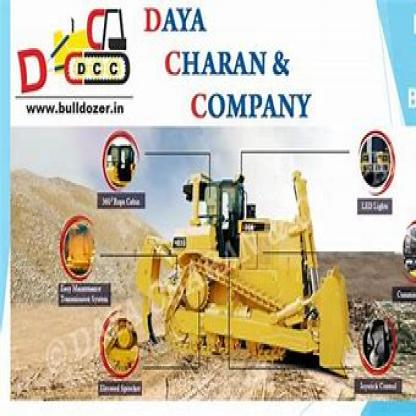bull_dozer/loader/grader: (114, 156, 367, 352)
